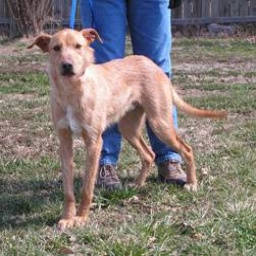dog: (27, 27, 204, 229)
